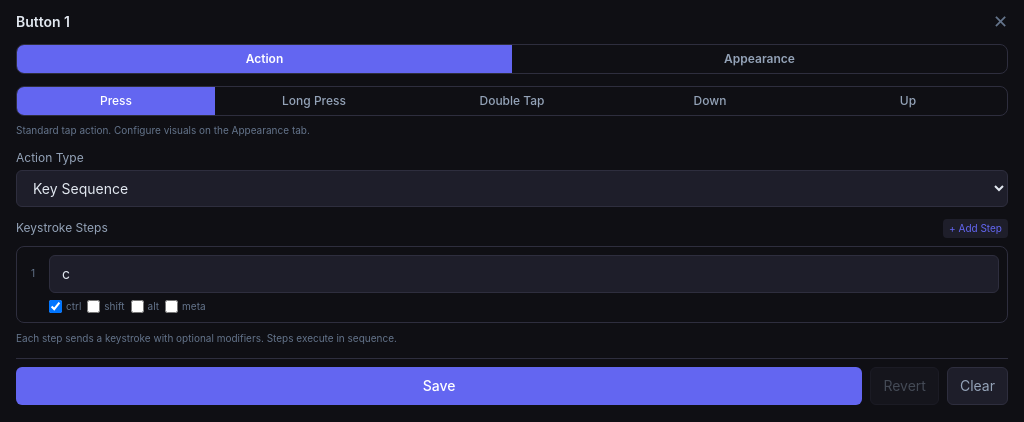
Test case: ActionPanel › trigger tabs › should switch to Double Tap tab
Click the button "Double Tap" at (512, 101), box [413,87,611,115]
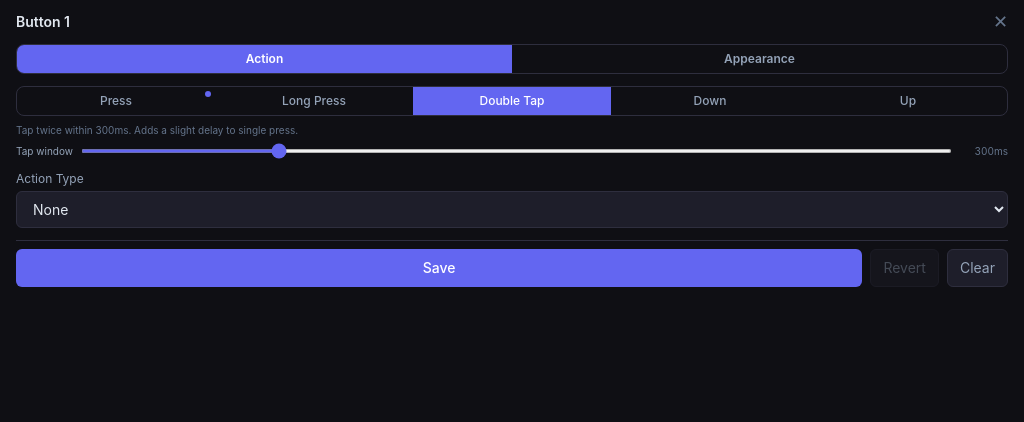
Now the text "Tap twice within 300ms. Adds a slight delay to single press." is shown, box [16,124,298,136]
